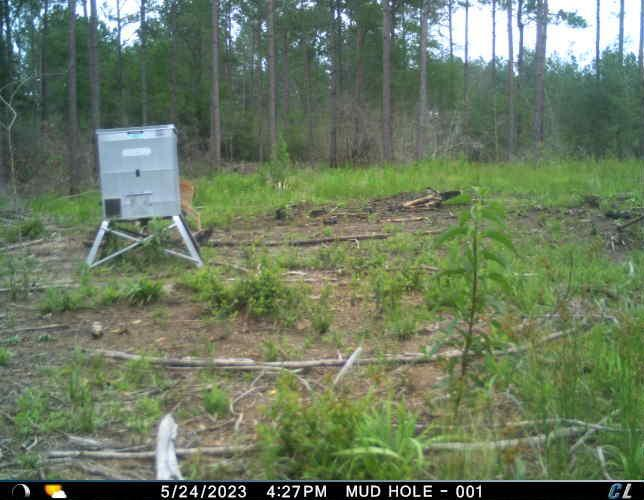Deer: (177, 175, 203, 235)
